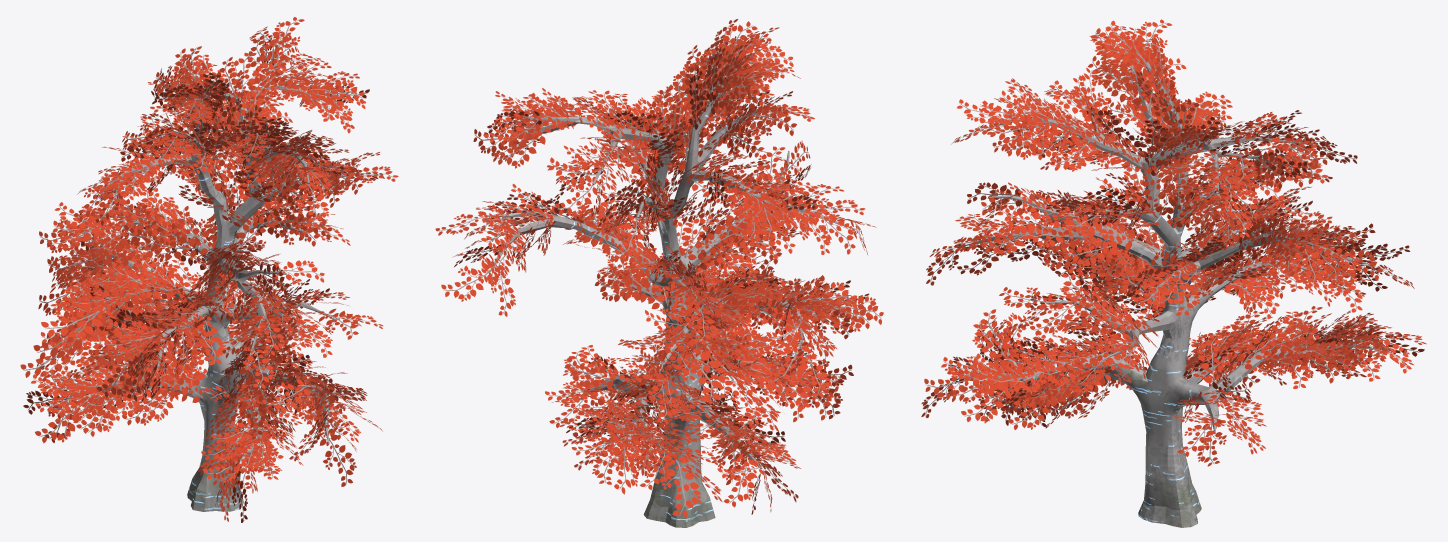
3 renders of one model, left to right at view 1: azimuth 30°, elevation 25°; view 2: azimuth 150°, elevation 25°; view 3: azimuth 270°, elevation 25°, orthographic. The views are drawn at different scales.
Parts seen in each view (by area): view 1: Tree_Lowpoly_01, Tree_Branches_0529, Tree_Branches_098, Tree_Branches_0613, Tree_Branches_048, Tree_Branches_09, Tree_Branches_0155, Tree_Branches_0102, Tree_Branches_0146, Tree_Branches_021, Tree_Branches_0268, Tree_Branches_016 (+36 smaller); view 2: Tree_Lowpoly_01, Tree_Branches_090, Tree_Branches_038, Tree_Branches_0111, Tree_Branches_014, Tree_Branches_0187, Tree_Branches_0477, Tree_Branches_024, Tree_Branches_02, Tree_Branches_0137, Tree_Branches_0295, Tree_Branches_0145 (+16 smaller); view 3: Tree_Lowpoly_01, Tree_Branches_0236, Tree_Branches_082, Tree_Branches_0256, Tree_Branches_0228, Tree_Branches_0243, Tree_Branches_0274, Tree_Branches_0241, Tree_Branches_0222, Tree_Branches_0523, Tree_Branches_0163, Tree_Branches_0600.
Boxes of the visible parts, x1=… form: Tree_Lowpoly_01: x1=63, y1=46, x2=346, y2=511; Tree_Branches_0529: x1=41, y1=296, x2=115, y2=340; Tree_Branches_098: x1=33, y1=300, x2=106, y2=360; Tree_Branches_0613: x1=145, y1=231, x2=199, y2=260; Tree_Branches_048: x1=35, y1=389, x2=86, y2=443; Tree_Branches_09: x1=319, y1=434, x2=356, y2=486; Tree_Branches_0155: x1=175, y1=206, x2=216, y2=254; Tree_Branches_0102: x1=47, y1=246, x2=101, y2=282; Tree_Branches_0146: x1=96, y1=345, x2=141, y2=397; Tree_Branches_021: x1=296, y1=184, x2=328, y2=227; Tree_Branches_0268: x1=233, y1=214, x2=277, y2=260; Tree_Branches_016: x1=240, y1=362, x2=276, y2=414; Tree_Lowpoly_01: x1=487, y1=61, x2=854, y2=527; Tree_Branches_090: x1=668, y1=339, x2=729, y2=401; Tree_Branches_038: x1=660, y1=455, x2=700, y2=517; Tree_Branches_0111: x1=564, y1=356, x2=617, y2=388; Tree_Branches_014: x1=441, y1=262, x2=492, y2=301; Tree_Branches_0187: x1=767, y1=339, x2=810, y2=386; Tree_Branches_0477: x1=696, y1=222, x2=748, y2=259; Tree_Branches_024: x1=555, y1=176, x2=597, y2=218; Tree_Branches_02: x1=609, y1=434, x2=637, y2=494; Tree_Branches_0137: x1=548, y1=156, x2=598, y2=185; Tree_Branches_0295: x1=679, y1=215, x2=719, y2=259; Tree_Branches_0145: x1=797, y1=282, x2=857, y2=316; Tree_Lowpoly_01: x1=956, y1=54, x2=1367, y2=527; Tree_Branches_0236: x1=972, y1=319, x2=1019, y2=365; Tree_Branches_082: x1=1197, y1=334, x2=1230, y2=383; Tree_Branches_0256: x1=961, y1=382, x2=1011, y2=423; Tree_Branches_0228: x1=1238, y1=331, x2=1289, y2=369; Tree_Branches_0243: x1=1061, y1=268, x2=1107, y2=316; Tree_Branches_0274: x1=1062, y1=236, x2=1116, y2=266; Tree_Branches_0241: x1=1030, y1=297, x2=1080, y2=335; Tree_Branches_0222: x1=924, y1=365, x2=979, y2=399; Tree_Branches_0523: x1=1225, y1=278, x2=1275, y2=318; Tree_Branches_0163: x1=1291, y1=242, x2=1327, y2=288; Tree_Branches_0600: x1=1266, y1=322, x2=1319, y2=359.
Size of the model in its own units: 1877 by 2445 by 2427.
3 materials, 3 textured.
